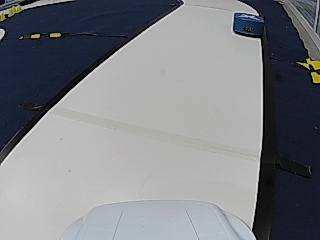prop: (233, 13, 264, 37)
